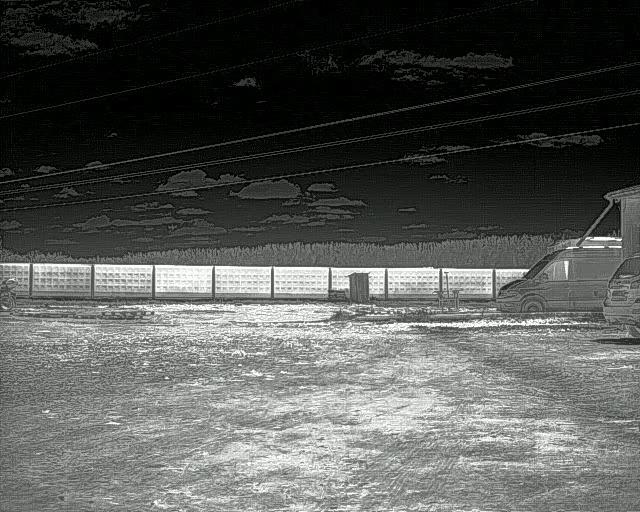ufo-thermal: (167, 223, 178, 231)
